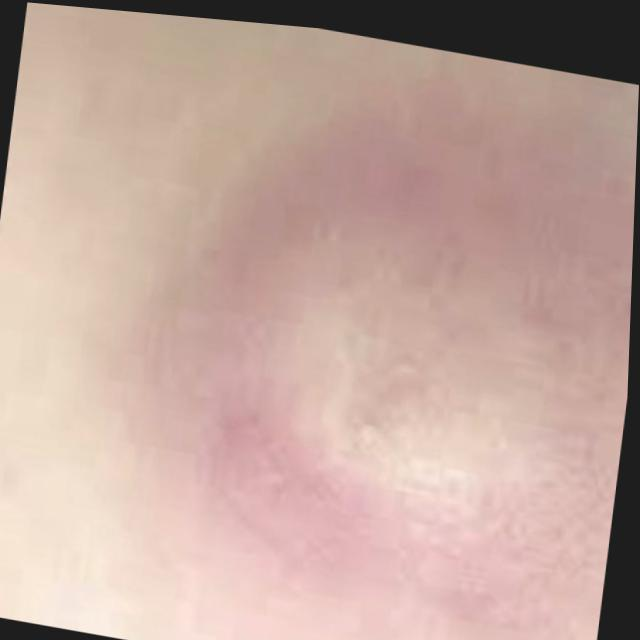nodule: (147, 116, 635, 633)
